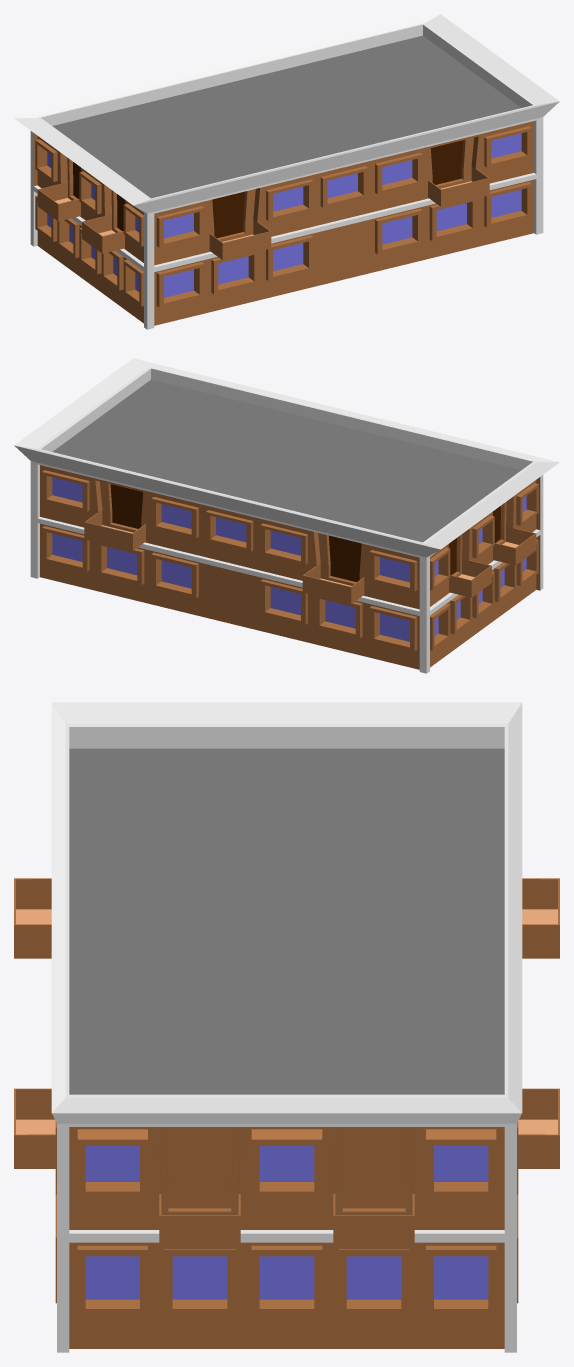
The model's file is Apartment Brown Top.FBX.
The picture shows the model from 3 angles, top to bottom: view 1: azimuth 30°, elevation 25°; view 2: azimuth 150°, elevation 25°; view 3: azimuth 270°, elevation 25°; orthographic projection. The views are drawn at different scales.
Visible parts, largest first — view 1: Apartment brown top; view 2: Apartment brown top; view 3: Apartment brown top.
Boxes of the visible parts, left/top/right/bottom form: Apartment brown top: left=14, top=14, right=559, bottom=329; Apartment brown top: left=14, top=358, right=559, bottom=673; Apartment brown top: left=14, top=702, right=559, bottom=1352.
Bounding box in the file's own units: 1231 × 349 × 680.
1 material, 1 textured.
